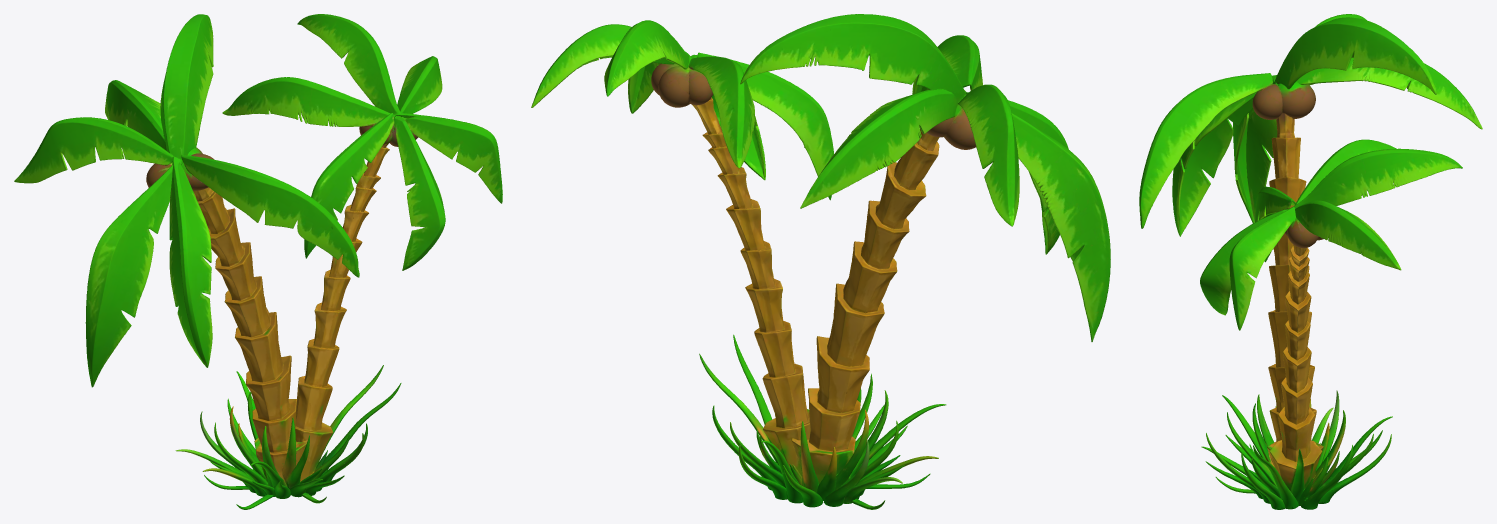
The model's file is Palm 2.glb.
3 renders of one model, left to right at view 1: azimuth 30°, elevation 25°; view 2: azimuth 150°, elevation 25°; view 3: azimuth 270°, elevation 25°, orthographic. The views are drawn at different scales.
Parts seen in each view (by area): view 1: node_0; view 2: node_0; view 3: node_0.
Part boxes in pixels (<box>): node_0: <box>14,14,502,509</box>; node_0: <box>531,14,1110,509</box>; node_0: <box>1139,14,1482,509</box>.
Bounding box in the file's own units: 1.03 × 1.04 × 0.7397.
Materials: 1 (1 with a texture image).
